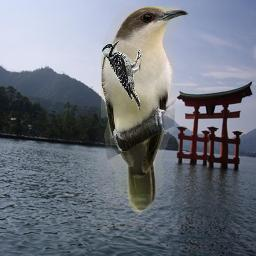Cuckoo: (101, 6, 189, 214)
Woodpecker: (101, 40, 143, 115)
